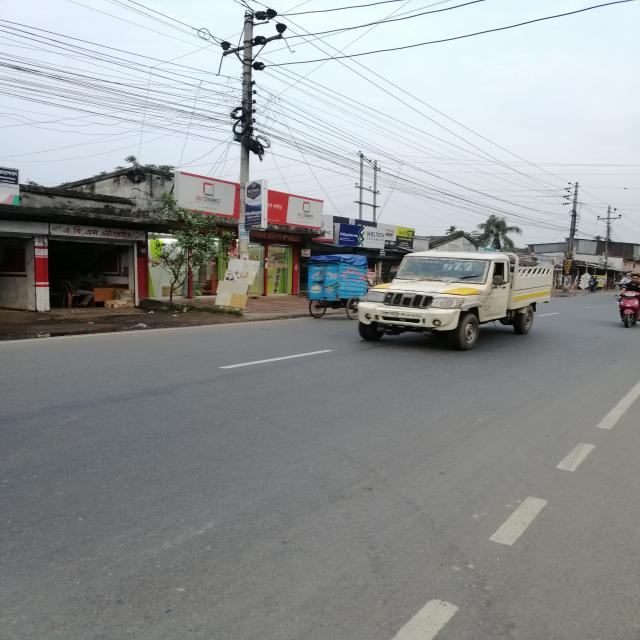Motorbike: (607, 275, 640, 330)
Zeep: (342, 245, 564, 348)
